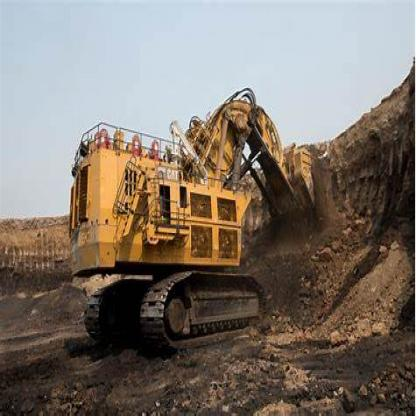excavator: (65, 75, 328, 348)
